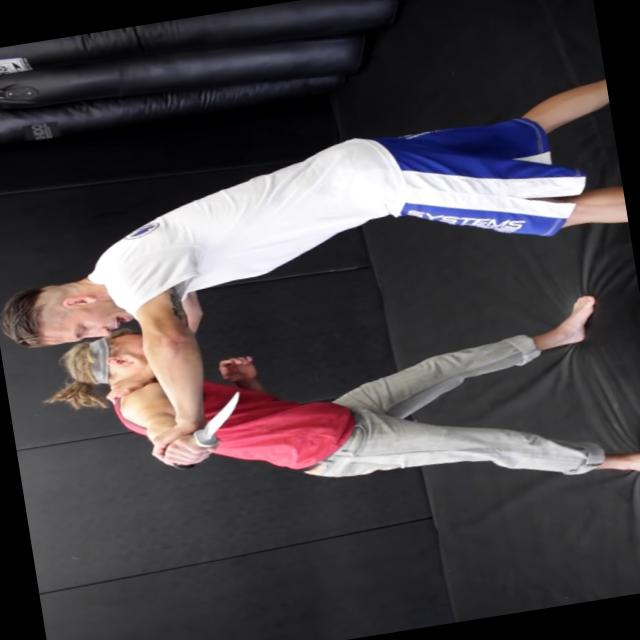knife: (158, 384, 258, 477)
